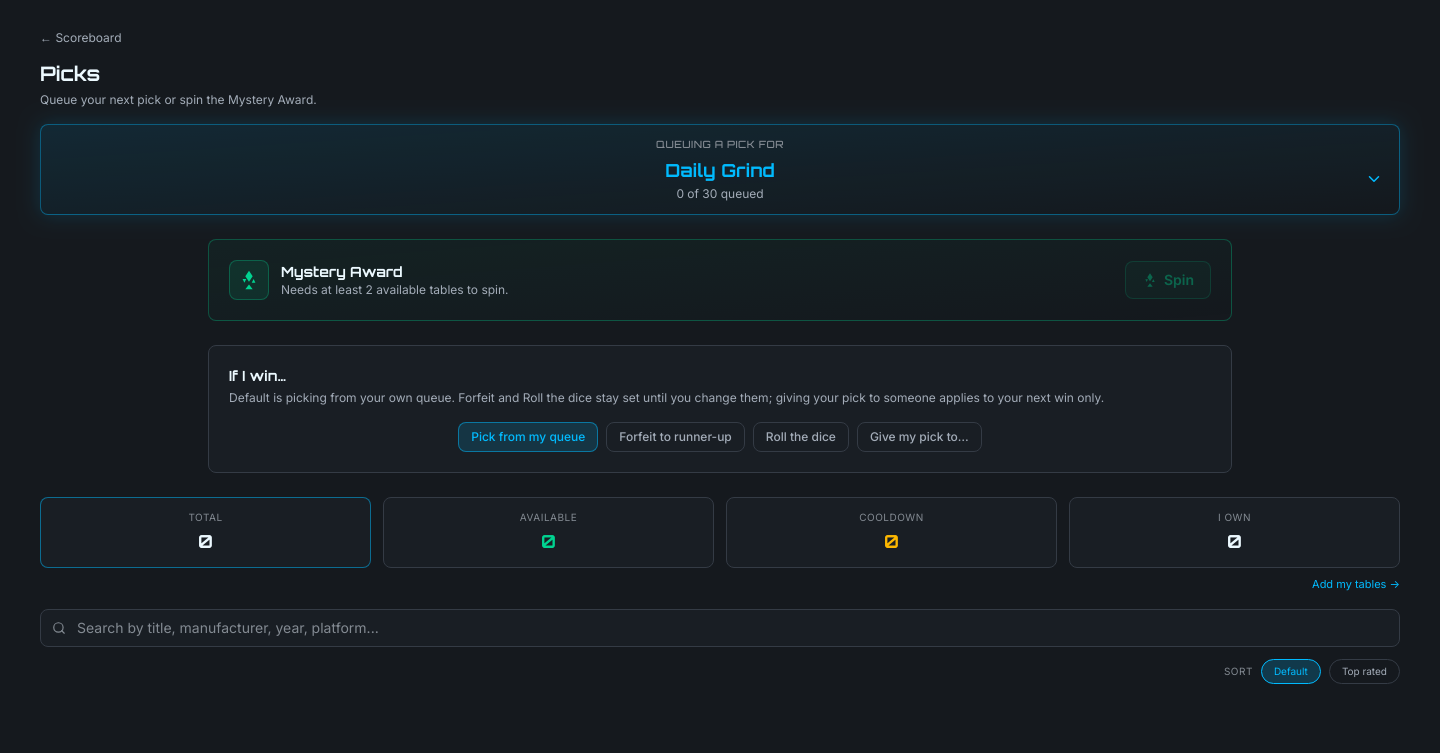
Picks page — next-win disposition control › typeahead: the signed-in viewer is excluded from suggestions
This screenshot has width=1440, height=753.
Click the button "Give my pick to…".
click(919, 437)  # box [857, 422, 982, 452]
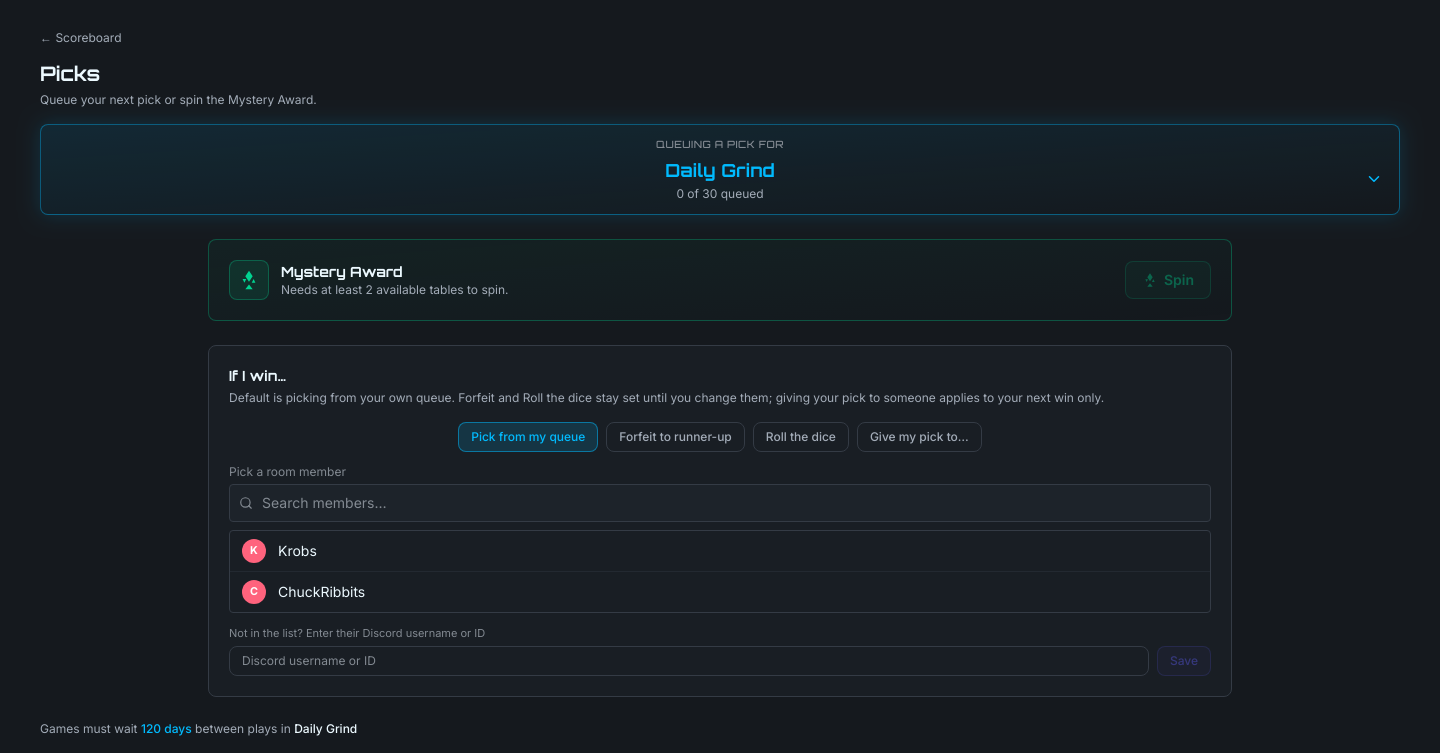
Type "te" into the field named "Nominee Discord username or ID".
click(689, 660); type("te")  # box [229, 646, 1149, 676]
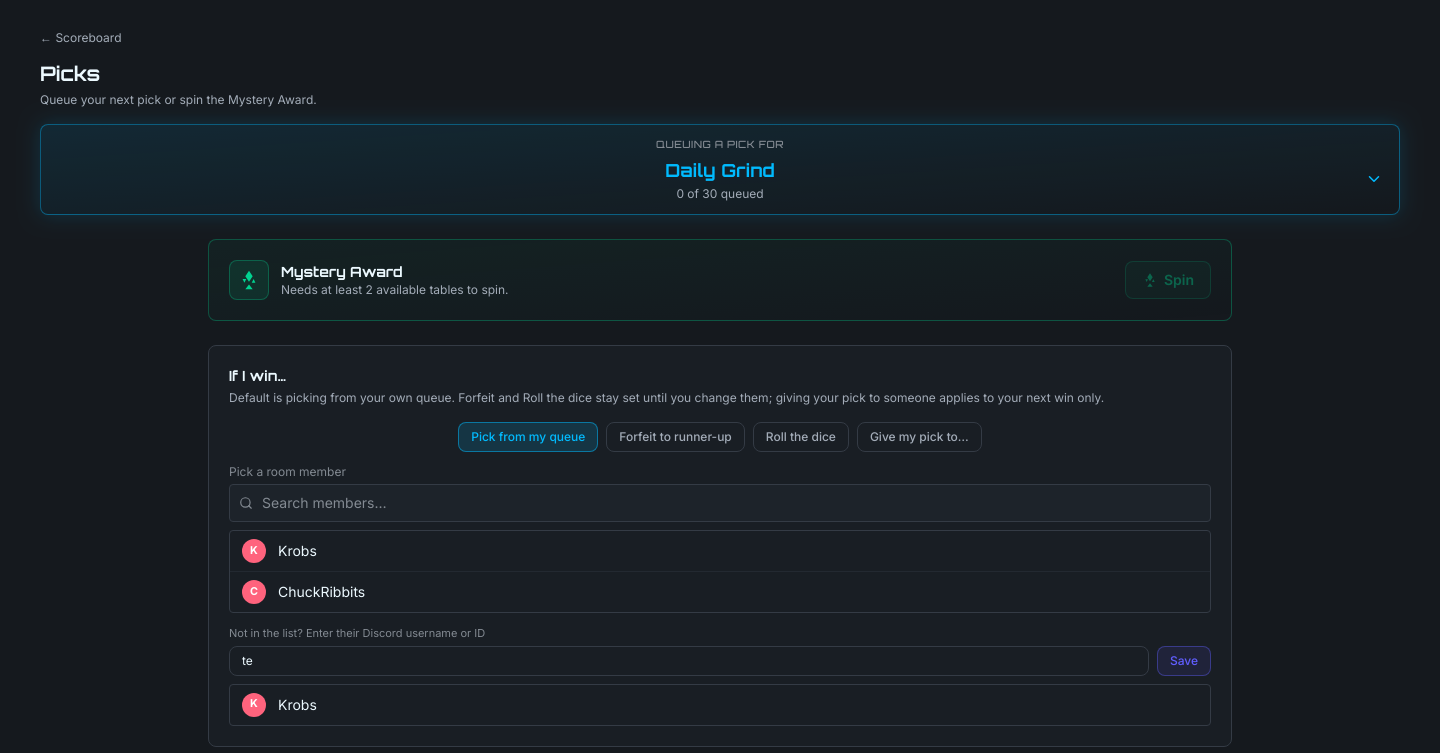
expect the 2nd text "Krobs" is shown: met, box [278, 696, 317, 712]
